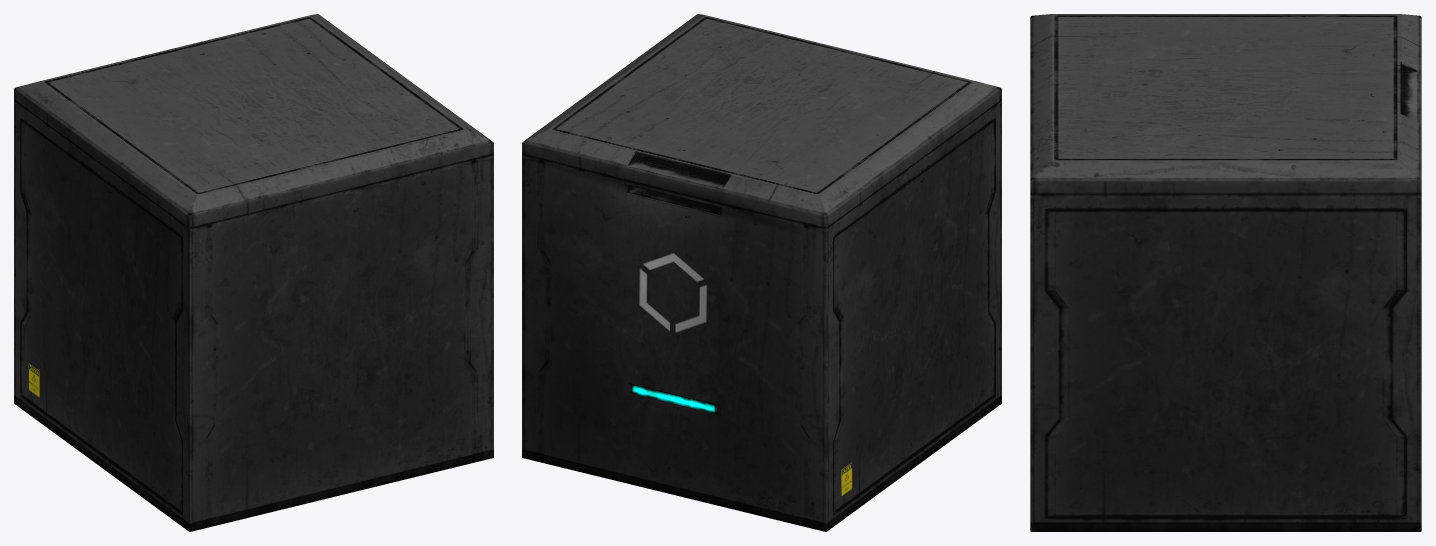
File: science_fiction_box.glb
3 views of the same model, side by side, from view 1: azimuth 30°, elevation 25°; view 2: azimuth 150°, elevation 25°; view 3: azimuth 270°, elevation 25° (orthographic). The views are drawn at different scales.
Visible parts, largest first — view 1: box_low; view 2: box_low; view 3: box_low.
Boxes of the visible parts, x1=… form: box_low: x1=14, y1=14, x2=493, y2=531; box_low: x1=522, y1=14, x2=1001, y2=531; box_low: x1=1030, y1=14, x2=1421, y2=531.
Size of the model in its own units: 1.02 by 1.04 by 1.02.
Materials: 1 (1 with a texture image).
